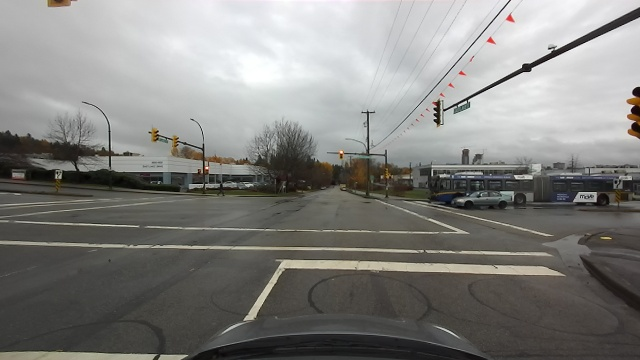car: (451, 190, 516, 208), (234, 182, 247, 191), (223, 181, 236, 189), (337, 184, 347, 191), (244, 182, 252, 189), (320, 186, 325, 190)
